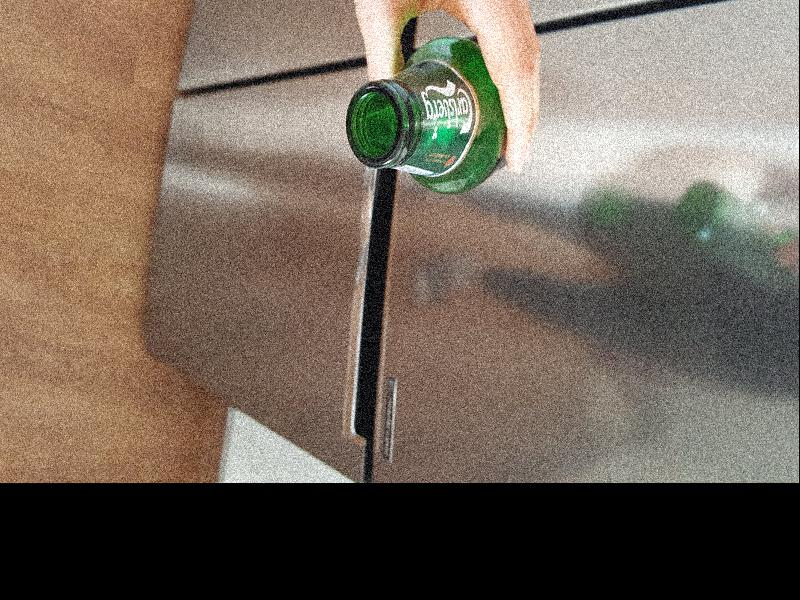Beer: (345, 41, 507, 193)
